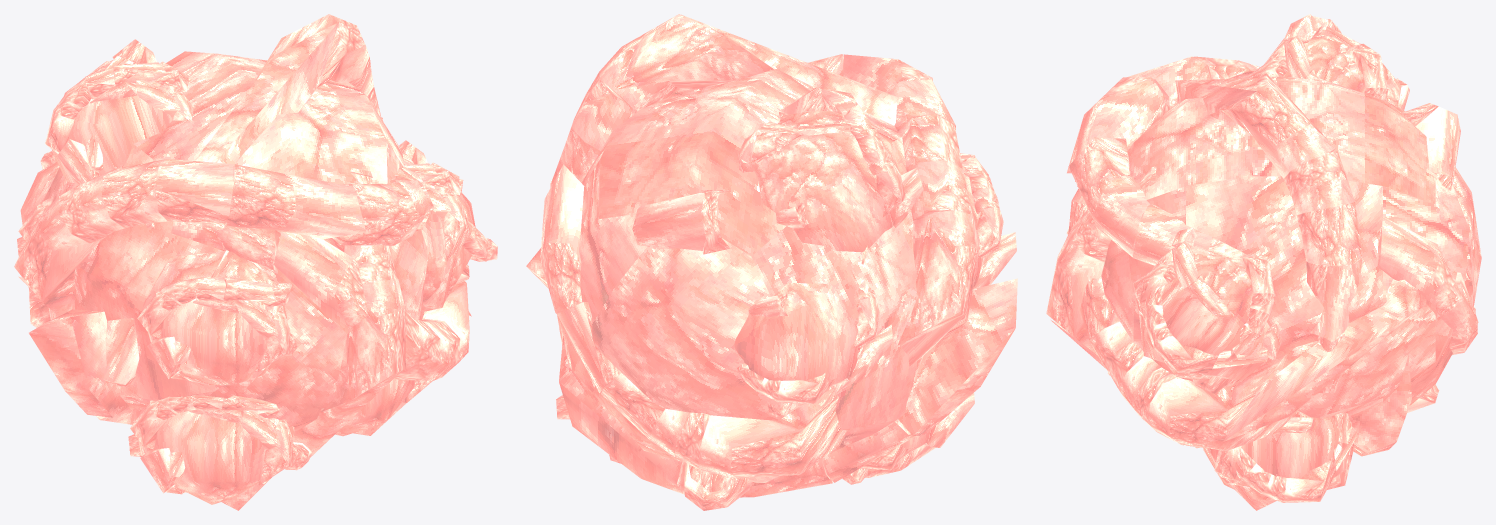
The model's file is 002_blobbubble.gltf.
The picture shows the model from 3 angles, left to right: view 1: azimuth 30°, elevation 25°; view 2: azimuth 150°, elevation 25°; view 3: azimuth 270°, elevation 25°; orthographic projection. The views are drawn at different scales.
Parts seen in each view (by area): view 1: blobbubble; view 2: blobbubble; view 3: blobbubble.
Boxes of the visible parts, box(x1,y1,x2,y2) form: blobbubble: box(14, 14, 497, 510); blobbubble: box(526, 14, 1017, 510); blobbubble: box(1046, 14, 1481, 510).
Size of the model in its own units: 2.45 by 2.3 by 2.21.
1 material, 1 textured.
